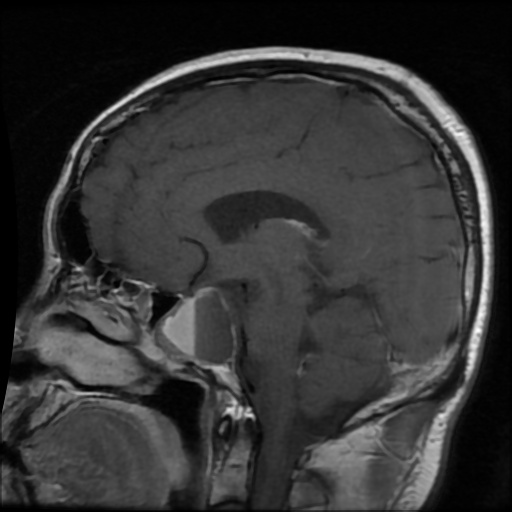pituitary: (153, 280, 239, 369)
